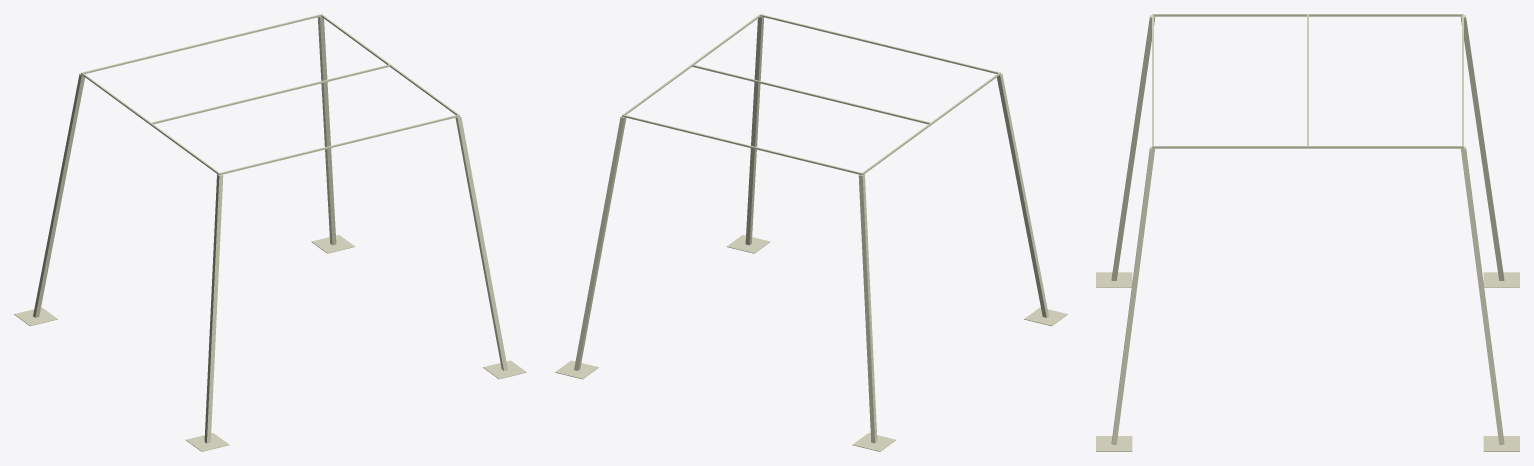
The model's file is Structure.dae.
The picture shows the model from 3 angles, left to right: view 1: azimuth 30°, elevation 25°; view 2: azimuth 150°, elevation 25°; view 3: azimuth 270°, elevation 25°; orthographic projection. The views are drawn at different scales.
Visible parts, largest first — view 1: SketchUp; view 2: SketchUp; view 3: SketchUp (×5).
Boxes of the visible parts, x1=… form: SketchUp: x1=33, y1=14, x2=507, y2=443; SketchUp: x1=574, y1=14, x2=1048, y2=443; SketchUp (×5): x1=1096, y1=14, x2=1519, y2=451.
Bounding box in the file's own units: 328 × 328 × 241.
